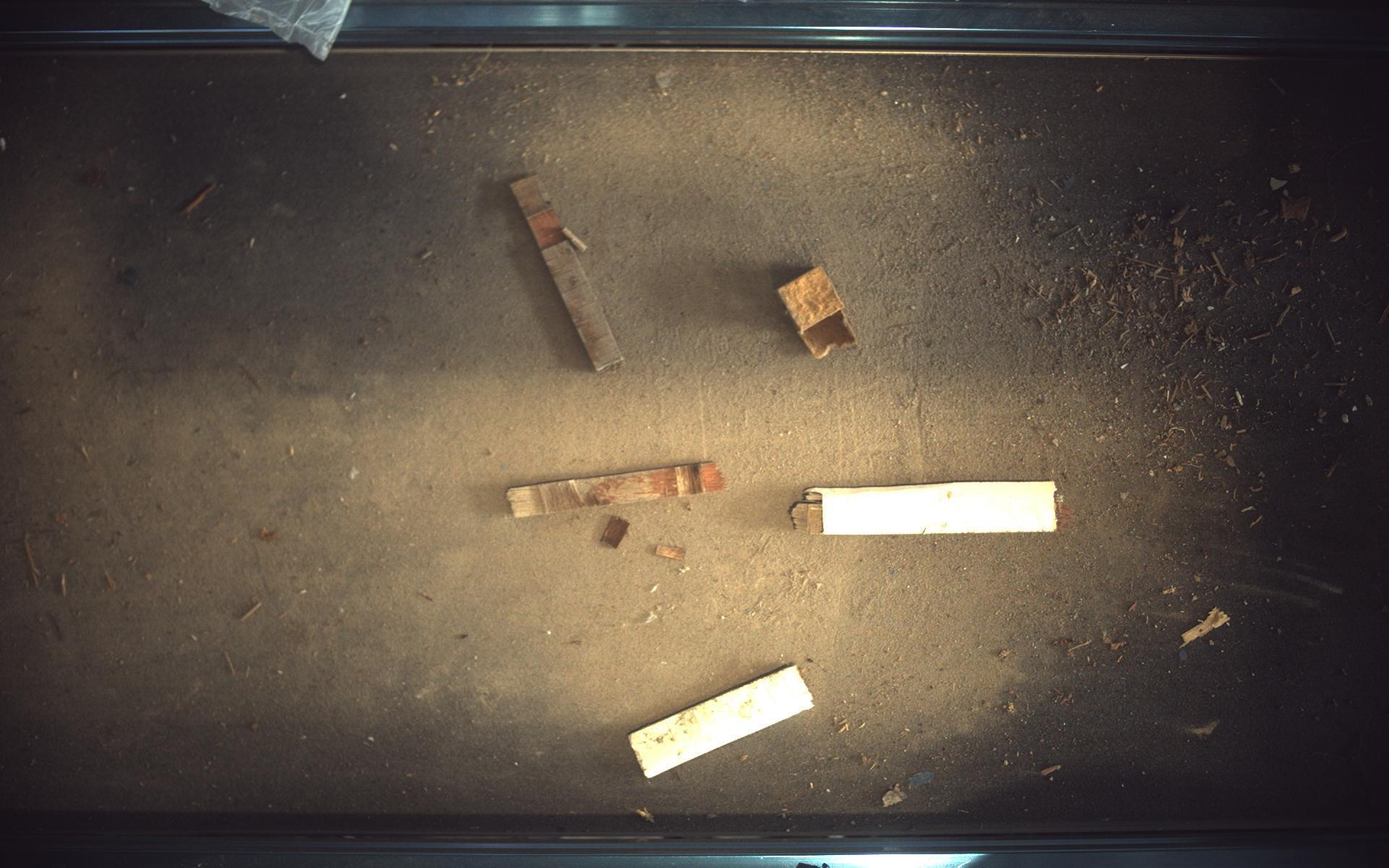wood: (511, 174, 623, 371), (631, 666, 813, 780), (792, 481, 1060, 535), (507, 462, 727, 518), (779, 266, 858, 359), (601, 516, 630, 549), (653, 545, 687, 562)
